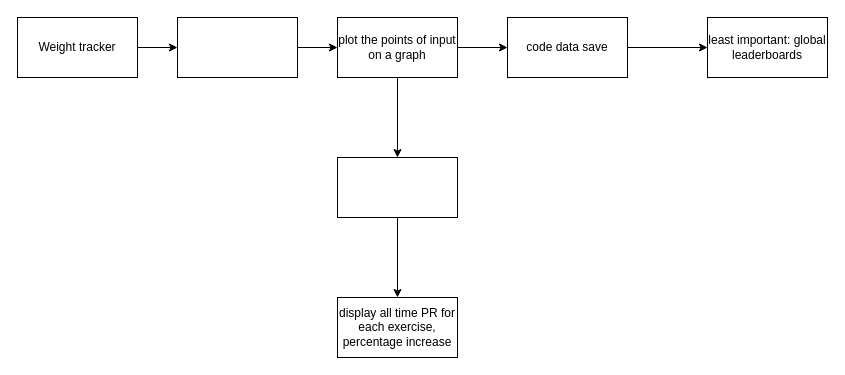
Image size: 845x375. Some labels were removed from this diagram. The centre of each missing label's shape, as x and y in pixels:
"create interface to input weight, date, and excersize" goes at (237,47).
"make the graph interactive, allow user to see the points weight and date" goes at (397,187).
